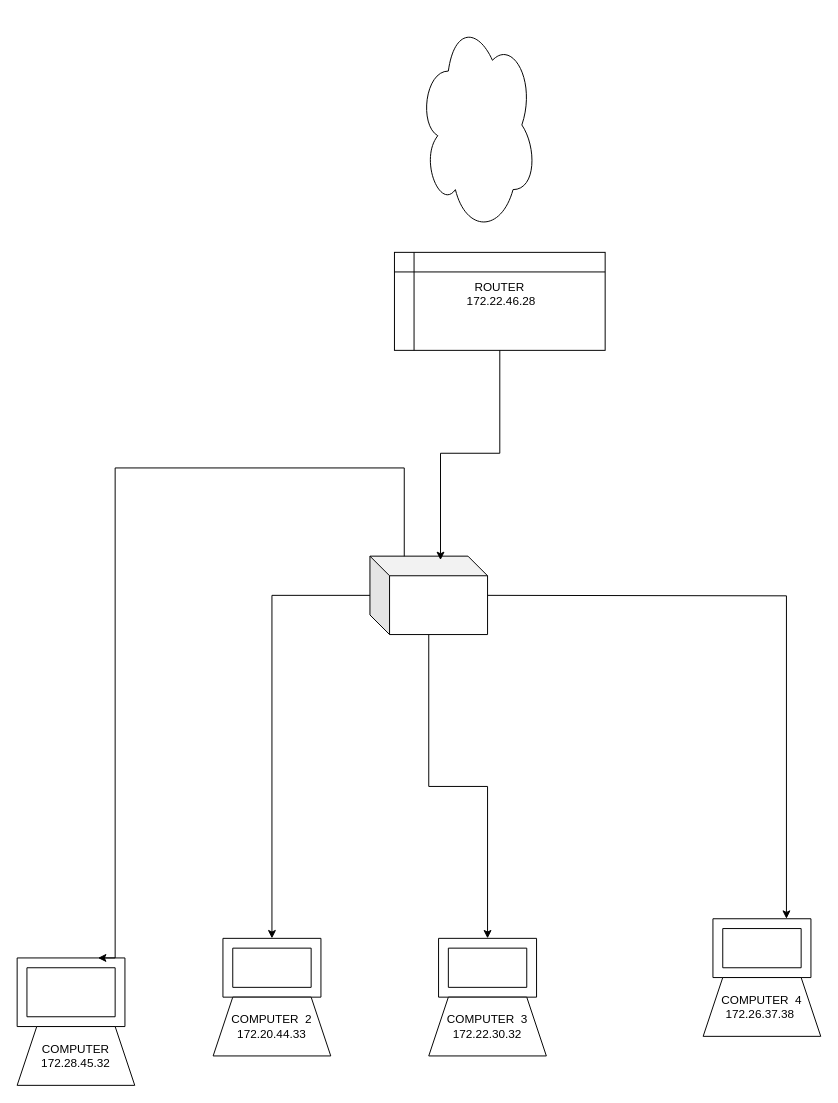
The diagram is 838 pixels wide and 1103 high, and some of its shapes have lost their labels. The centre of each missing label's shape, as x and y in pixels:
ethernet: point (477, 124)
VSWITCH 172.26.38.34: point (428, 595)
